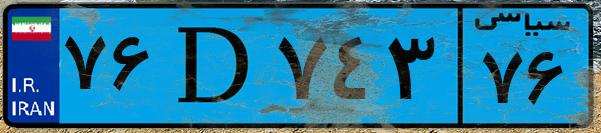3: (385, 28, 445, 110)
4: (330, 28, 385, 110)
6: (525, 38, 570, 115), (110, 28, 158, 98)
7: (270, 28, 330, 110), (57, 26, 110, 100), (475, 38, 525, 113)
D: (158, 12, 270, 120)
